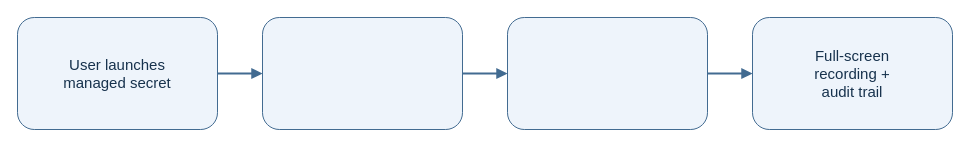
Image size: 970x147. Some labels were removed from this diagram. The shapes that lost their labels are listed below. From the top down, each one's centre as x and y in pixels, then its label:
At pixel 362 73: "FortiClient launcher + parent process".
At pixel 607 73: "Matcher Default / Window Title / Command".
